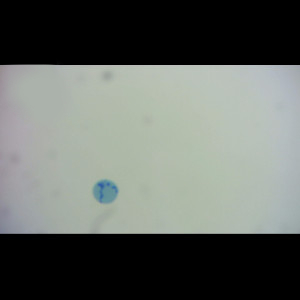aggregate reticulocyte: (91, 178, 121, 206)
